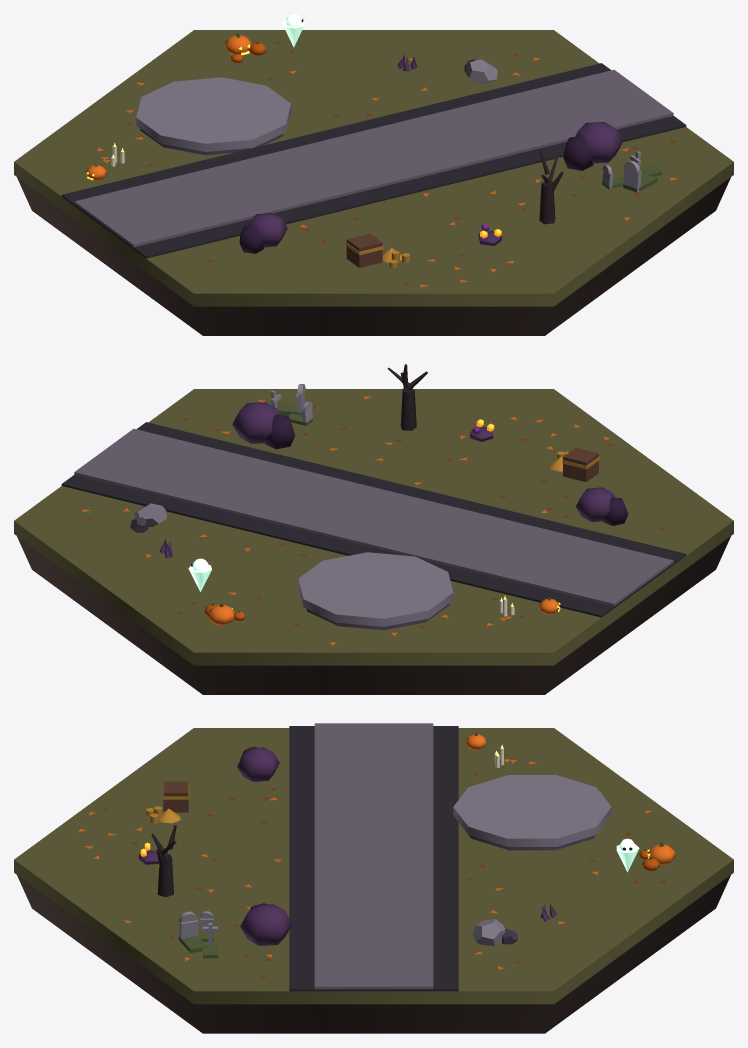
Rendered from tile_goldRoad.glb.
The picture shows the model from 3 angles, top to bottom: view 1: azimuth 30°, elevation 25°; view 2: azimuth 150°, elevation 25°; view 3: azimuth 270°, elevation 25°; orthographic projection.
Visible parts, largest first — view 1: ground, road, ground_soil, tower_slot_1_plate, road_surface_hub, deco_bush_0_a, income_crate_box, deco_bush_5_a, deco_bush_0_b, road_verge_hub, deco_stone_2_a, deco_tree_3_trunk (+1 smaller); view 2: ground, road, ground_soil, tower_slot_1_plate, road_surface_hub, deco_bush_0_a, deco_bush_5_a, income_crate_box, road_verge_hub, deco_bush_0_b, deco_tree_3_trunk; view 3: ground, road, ground_soil, tower_slot_1_plate, deco_bush_0_a, road_surface_hub, deco_bush_5_a, income_crate_box, deco_stone_2_a, deco_tree_3_trunk.
Part boxes in pixels (x1,y1,x2,y2): ground: (14, 30, 733, 306); road: (61, 63, 686, 258); ground_soil: (17, 177, 730, 335); tower_slot_1_plate: (136, 77, 291, 151); road_surface_hub: (315, 132, 431, 181); deco_bush_0_a: (575, 122, 623, 163); income_crate_box: (346, 233, 382, 267); deco_bush_5_a: (248, 213, 287, 247); deco_bush_0_b: (563, 136, 593, 170); road_verge_hub: (297, 124, 442, 190); deco_stone_2_a: (466, 59, 497, 84); deco_tree_3_trunk: (539, 181, 555, 224); ground: (14, 389, 733, 665); road: (61, 422, 686, 617); ground_soil: (17, 536, 730, 694); tower_slot_1_plate: (298, 552, 453, 626); road_surface_hub: (315, 491, 429, 540); deco_bush_0_a: (232, 402, 280, 443); deco_bush_5_a: (576, 487, 615, 521); income_crate_box: (563, 448, 598, 482); road_verge_hub: (303, 483, 450, 550); deco_bush_0_b: (265, 414, 295, 449); deco_tree_3_trunk: (400, 388, 416, 430); ground: (14, 728, 733, 1004); road: (289, 723, 458, 991); ground_soil: (17, 875, 730, 1033); tower_slot_1_plate: (453, 775, 611, 846); deco_bush_0_a: (240, 904, 292, 945); road_surface_hub: (315, 830, 432, 854); deco_bush_5_a: (237, 747, 279, 781); income_crate_box: (163, 781, 188, 812); deco_stone_2_a: (472, 919, 505, 945); deco_tree_3_trunk: (157, 854, 173, 897).
Size of the model in its own units: 1.73 by 0.3564 by 2.
